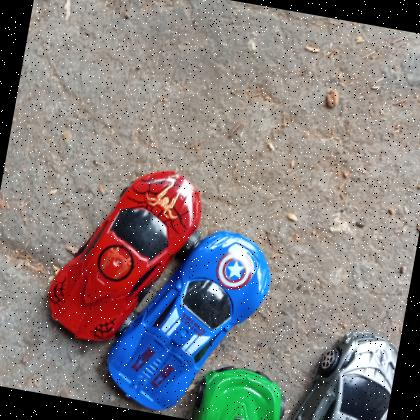Car: (98, 212, 278, 420), (40, 153, 208, 357)
